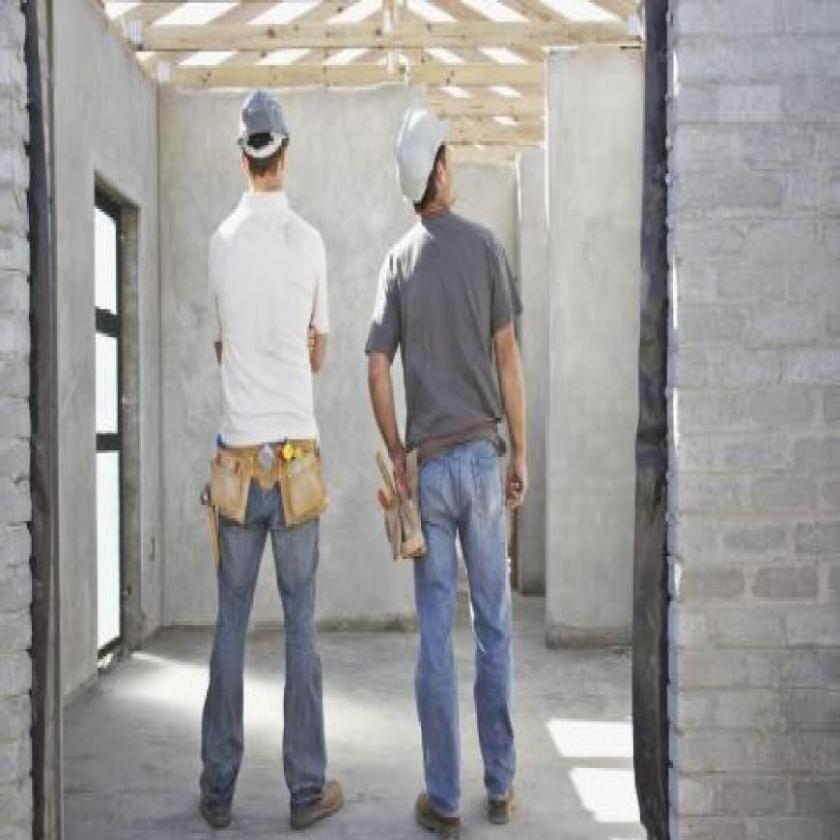Con_casco: (381, 101, 462, 214), (234, 81, 292, 205)
